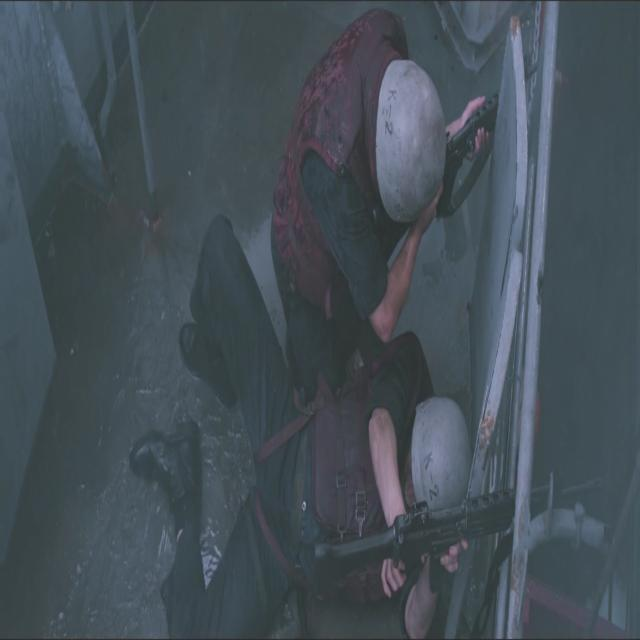gun-knife-thesis - v11 Yolov5 augmented: (309, 462, 615, 621), (369, 34, 545, 261)
